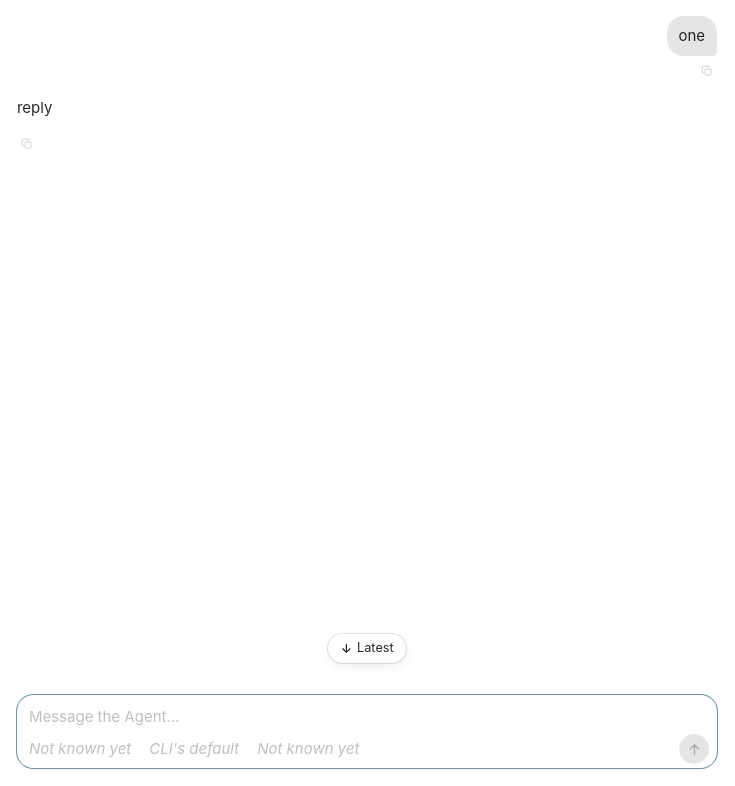
Test case: following the end › goes back to the end and follows when the person sends a message
(page scrolled)
Type "and now?" into the text box named "Message to the Agent".
click(369, 716); type("and now?")  # box [29, 703, 709, 730]
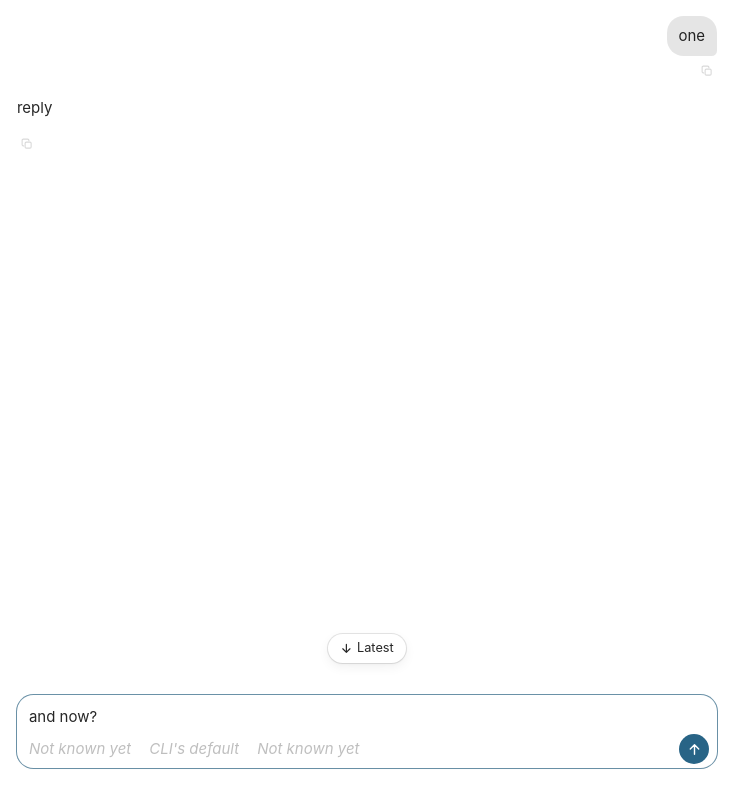
Press Enter in the text box named "Message to the Agent", box [29, 703, 709, 730]
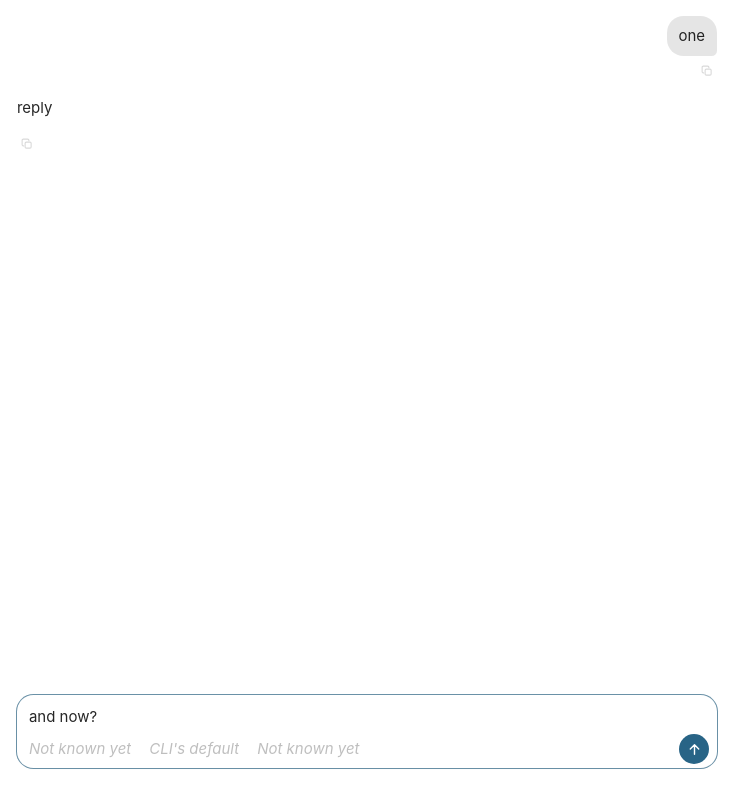
Check: the button "Latest" is gone
